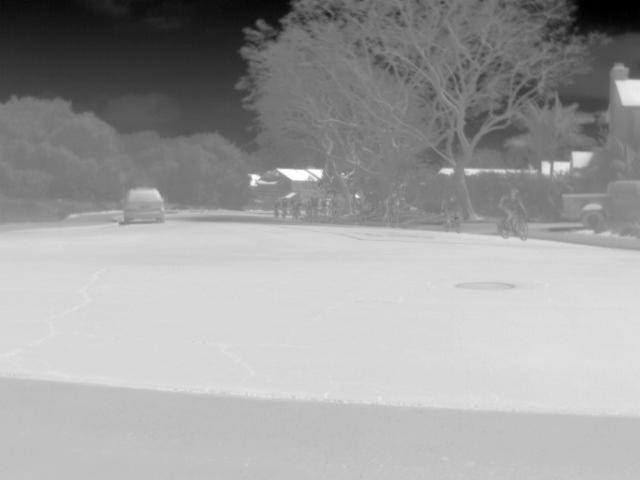car: (559, 177, 640, 232), (119, 186, 168, 225)
person: (495, 190, 530, 234), (379, 192, 403, 225), (440, 195, 463, 225)
